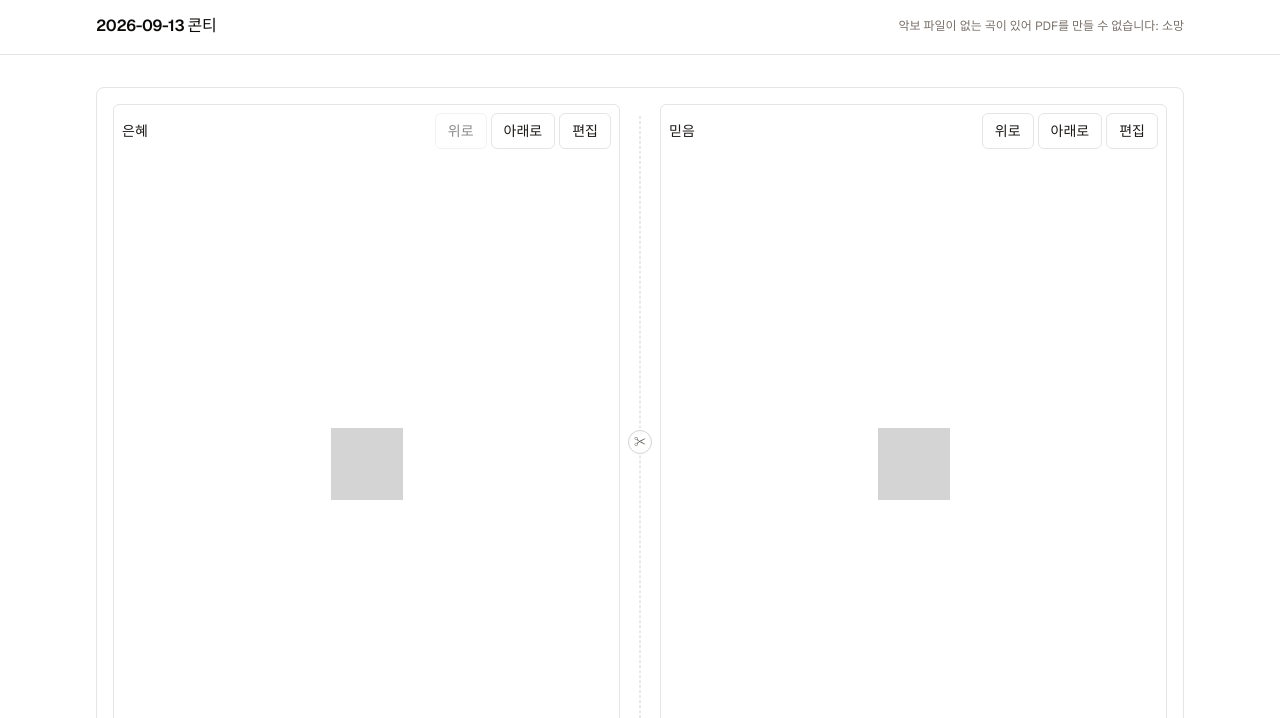
Test: 순서 변경 › 저장하는 동안 순서 버튼이 잠겨야 한다
What coordinates should you click on to do the following:
click the button with aria-label "믿음 아래로"
I would click on:
 (1070, 131)
Its box is [1038,113,1102,149].
(page scrolled)
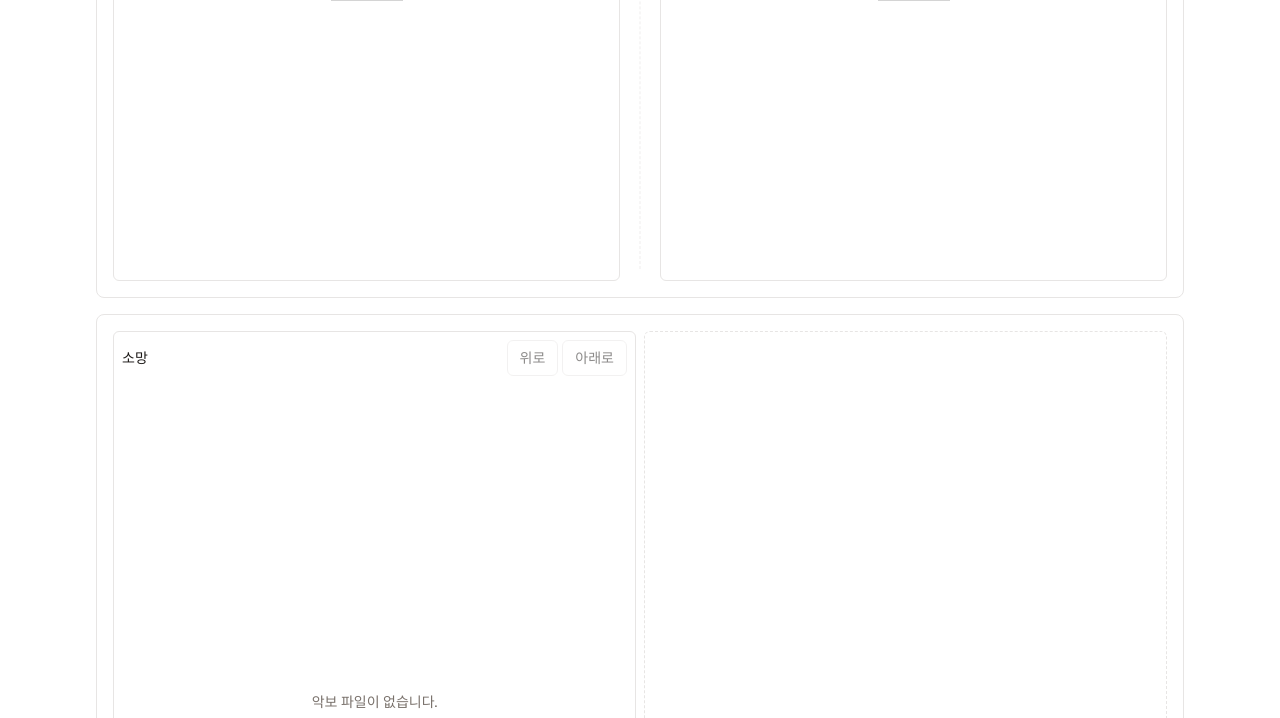
Check: the button with aria-label "소망 위로" is disabled, box [507,340,558,376]
